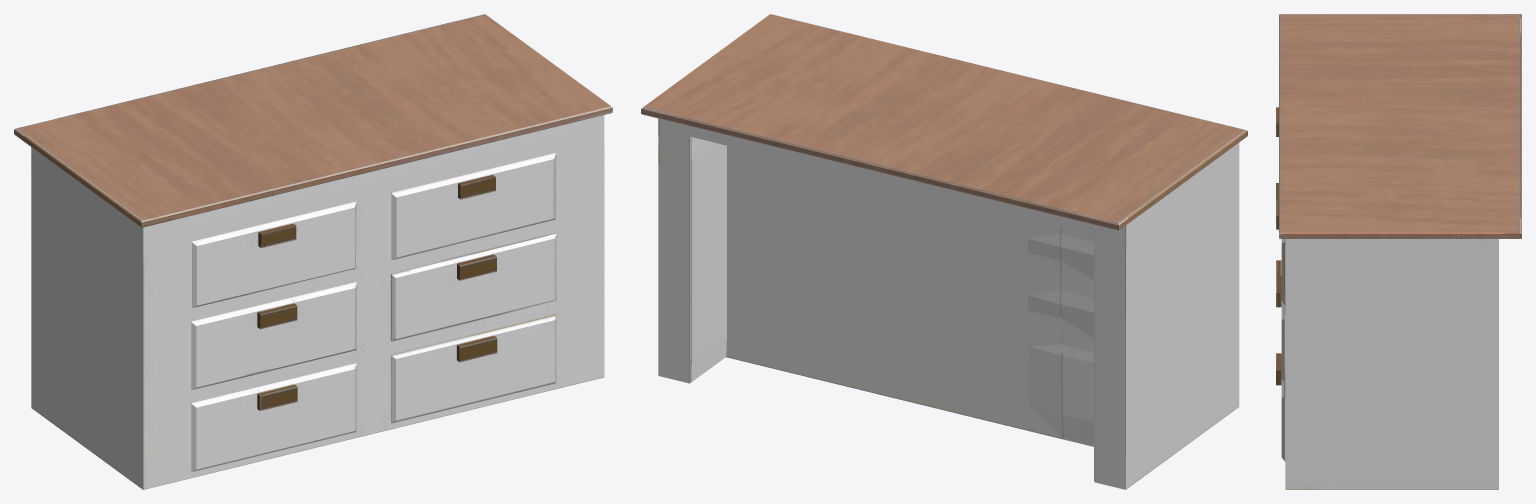
Rendered from drawer-cabinet.glb.
3 renders of one model, left to right at view 1: azimuth 30°, elevation 25°; view 2: azimuth 150°, elevation 25°; view 3: azimuth 270°, elevation 25°, orthographic. The views are drawn at different scales.
Parts seen in each view (by area): view 1: Island_Island_Baked_0; view 2: Island_Island_Baked_0; view 3: Island_Island_Baked_0.
Part boxes in pixels (bbox=[...]): Island_Island_Baked_0: bbox=[14, 14, 612, 489]; Island_Island_Baked_0: bbox=[641, 14, 1247, 489]; Island_Island_Baked_0: bbox=[1276, 14, 1521, 489].
Size of the model in its own units: 5.1 by 2.81 by 2.41.
1 material, 1 textured.
